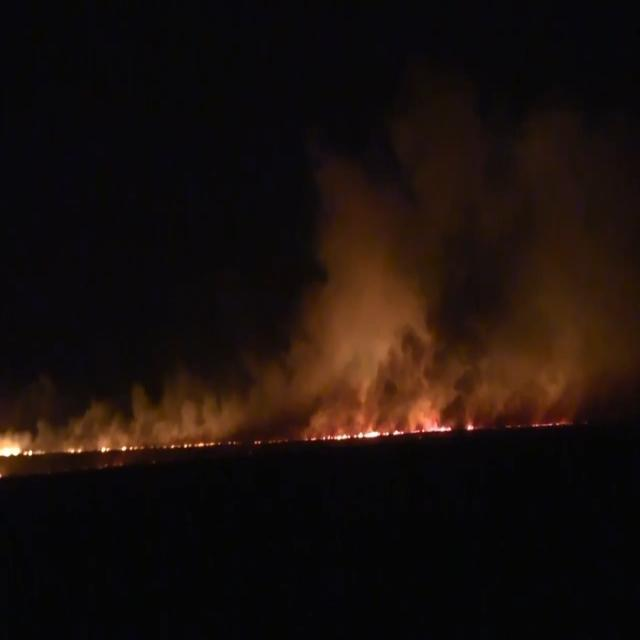Fire: (327, 410, 477, 444)
